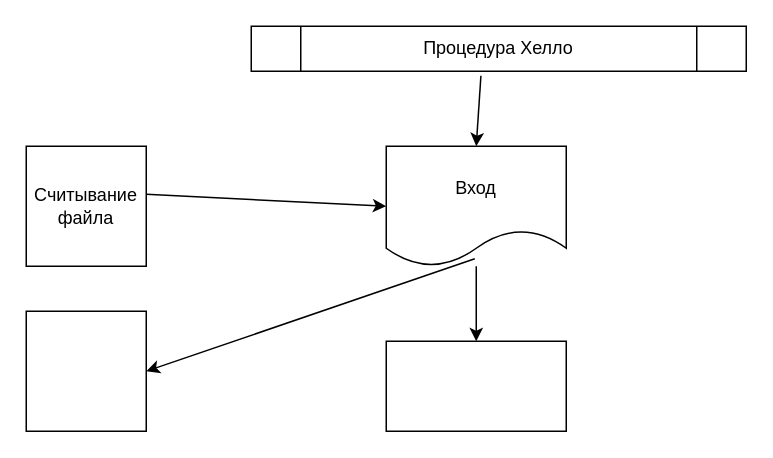
The diagram is 773 pixels wide and 458 high, and some of its shapes have lost their labels. Here are the shapes that lost their labels. From the top down, the box of each, then its label:
(25, 310, 146, 431): Запись в файл
(385, 340, 566, 431): Лог
